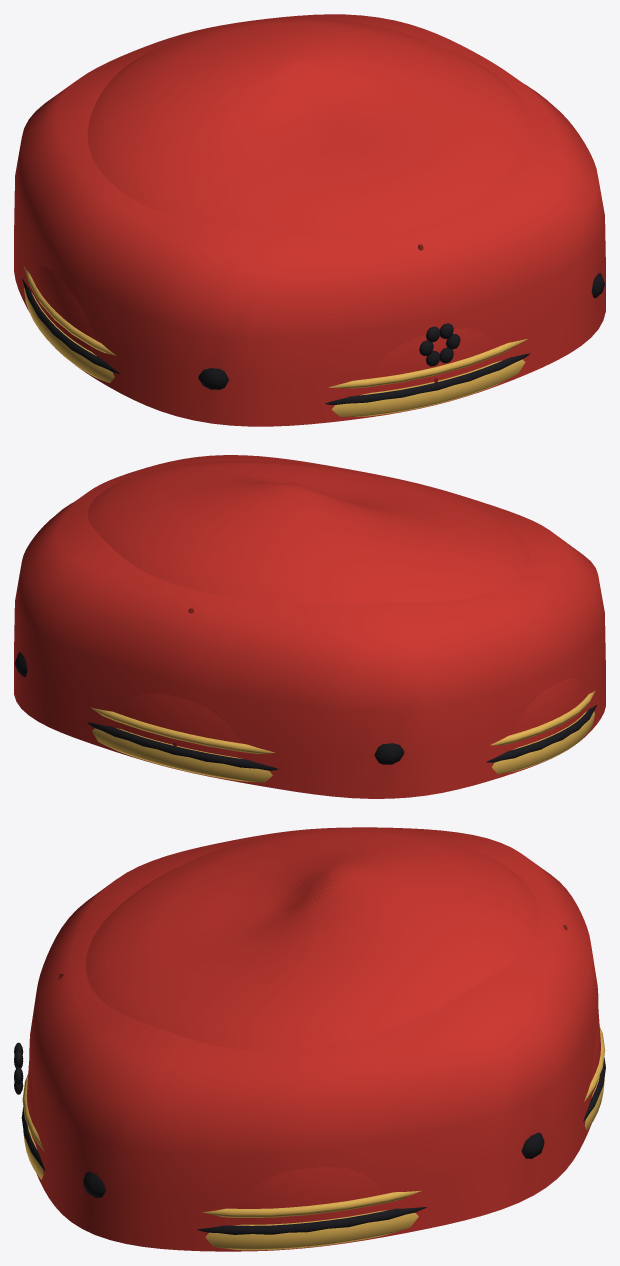
The model's file is hw_cap.glb.
The picture shows the model from 3 angles, top to bottom: view 1: azimuth 30°, elevation 25°; view 2: azimuth 150°, elevation 25°; view 3: azimuth 270°, elevation 25°; orthographic projection. The views are drawn at different scales.
Visible parts, largest first — view 1: hw_cap@doppi, hw_cap@qeleshe, hw_cap@kaeppi_band, hw_cap@kumma_b, hw_cap@kumma_c, hw_cap@kaeppi_flower, hw_cap@peci, hw_cap@doppi_p; view 2: hw_cap@doppi, hw_cap@qeleshe, hw_cap@kaeppi_band, hw_cap@kumma_b, hw_cap@kumma_c, hw_cap@peci, hw_cap@doppi_p; view 3: hw_cap@doppi, hw_cap@qeleshe, hw_cap@kaeppi_band, hw_cap@kumma_b, hw_cap@kumma_c, hw_cap@peci, hw_cap@doppi_p.
Boxes of the visible parts, left/top/right/bottom form: hw_cap@doppi: left=14, top=14, right=605, bottom=426; hw_cap@qeleshe: left=31, top=18, right=530, bottom=392; hw_cap@kaeppi_band: left=24, top=288, right=525, bottom=417; hw_cap@kumma_b: left=22, top=278, right=530, bottom=404; hw_cap@kumma_c: left=23, top=265, right=527, bottom=388; hw_cap@kaeppi_flower: left=419, top=323, right=460, bottom=366; hw_cap@peci: left=49, top=84, right=567, bottom=279; hw_cap@doppi_p: left=198, top=273, right=604, bottom=389; hw_cap@doppi: left=14, top=455, right=605, bottom=798; hw_cap@qeleshe: left=87, top=461, right=586, bottom=756; hw_cap@kaeppi_band: left=92, top=711, right=594, bottom=782; hw_cap@kumma_b: left=87, top=705, right=596, bottom=770; hw_cap@kumma_c: left=90, top=690, right=595, bottom=754; hw_cap@peci: left=50, top=503, right=568, bottom=643; hw_cap@doppi_p: left=14, top=652, right=404, bottom=764; hw_cap@doppi: left=29, top=827, right=598, bottom=1251; hw_cap@qeleshe: left=26, top=827, right=600, bottom=1224; hw_cap@kaeppi_band: left=23, top=1076, right=604, bottom=1250; hw_cap@kumma_b: left=21, top=1057, right=605, bottom=1234; hw_cap@kumma_c: left=22, top=1027, right=605, bottom=1217; hw_cap@peci: left=41, top=919, right=585, bottom=1100; hw_cap@doppi_p: left=83, top=1132, right=544, bottom=1197.
Bounding box in the file's own units: 0.8418 × 0.3823 × 0.7668.
